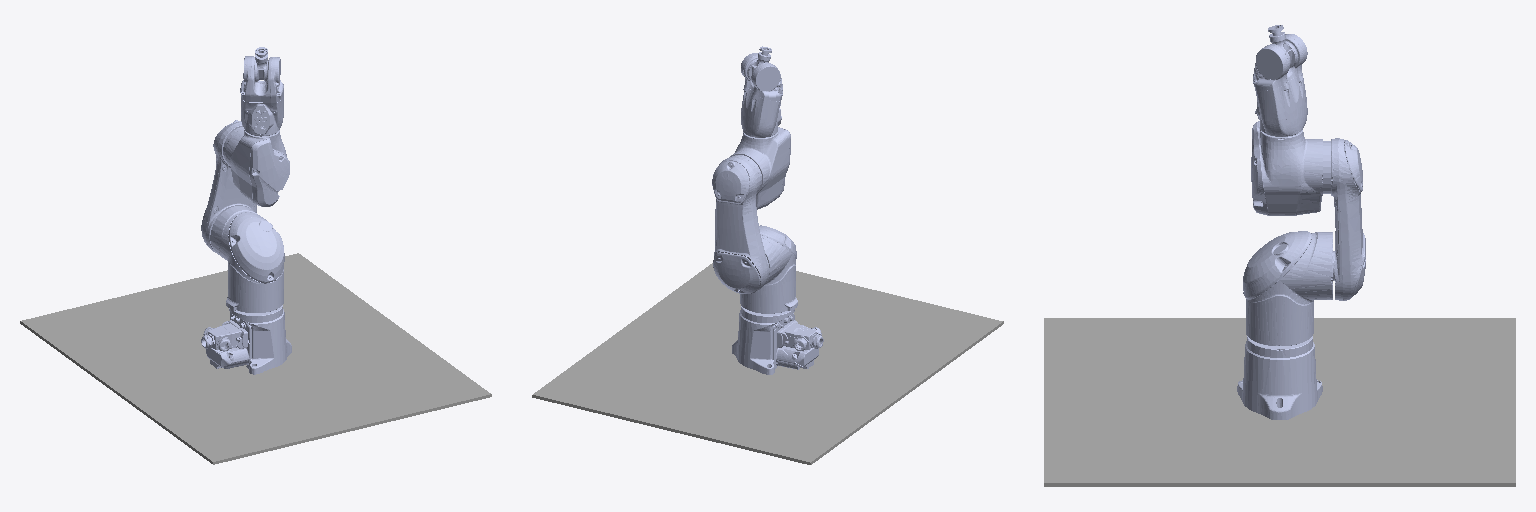
The robot description file, URDF, robot "staubli":
<?xml version="1.0" encoding="utf-8"?>
<!-- This URDF was automatically created by SolidWorks to URDF Exporter! Originally created by [author] ([email redacted]) 
     Commit Version: 1.5.1-0-g916b5db  Build Version: 1.5.7152.31018
     For more information, please see http://wiki.ros.org/sw_urdf_exporter -->
<robot
  name="staubli">

  <!--  %%%%%%%%%%%%%%%%%%%%%%%%%%%%%%%%%%%%%%%%%%%%%%%%%%%%%%%%%%%%%%%%%%%%%%%%%%%%%%%%%%%%%%%%%%%%%%  -->
  <!--  For display  -->

  <link name="world" />
  <joint name="world_joint" type="fixed">
      <parent link="world" />
      <child link="table" />
      <origin xyz="0.0 0.0 0.0" rpy="0.0 0.0 0.0" />
  </joint>

   <link name="table" >
     <mass
        value="7.5748" />
      <inertia
        ixx="0.029538"
        ixy="-8.9594E-05"
        ixz="0.00038731"
        iyy="0.027722"
        iyz="9.1547E-06"
        izz="0.022274" />
      <visual>
        <geometry>
          <box size="1.0 1.2 0.01" />
        </geometry>
        <material name="LightGrey">
          <color rgba="0.7 0.7 0.7 1.0"/>
        </material>
      </visual>
      <collision>
        <origin xyz="0.0 0.0 0.005" rpy="0 0 0" />
        <geometry>
          <box size="1.0 1.2 0.01" />
        </geometry>
      </collision>
  </link>

  <joint name="base_to_table" type="fixed">
      <origin xyz="0 0 0.001" rpy="-1.57 0.0 0.0"/>
      <parent link="table" />
      <child link = "base" />
  </joint>

  <link
    name="base">
    <inertial>
      <origin
        xyz="-0.036093 -0.0011918 0.08178"
        rpy="0 0 0" />
      <mass
        value="7.5748" />
      <inertia
        ixx="0.029538"
        ixy="-8.9594E-05"
        ixz="0.00038731"
        iyy="0.027722"
        iyz="9.1547E-06"
        izz="0.022274" />
    </inertial>
    <visual>
      <origin
        xyz="0 0 0"
        rpy="0 0 0" />
      <geometry>
        <mesh
          filename="package://staubli/meshes/base.STL" />
      </geometry>
      <material
        name="">
        <color
          rgba="0.79216 0.81961 0.93333 1" />
      </material>
    </visual>
    <collision>
      <origin
        xyz="0 0 0"
        rpy="0 0 0" />
      <geometry>
        <mesh
          filename="package://staubli/meshes/base.STL" />
      </geometry>
    </collision>
  </link>
  <link
    name="shoulder">
    <inertial>
      <origin
        xyz="-0.00023698 -0.13392 0.023184"
        rpy="0 0 0" />
      <mass
        value="7.2296" />
      <inertia
        ixx="0.059563"
        ixy="0.00017994"
        ixz="-4.0104E-05"
        iyy="0.037079"
        iyz="0.010038"
        izz="0.050678" />
    </inertial>
    <visual>
      <origin
        xyz="0 0 0"
        rpy="0 0 0" />
      <geometry>
        <mesh
          filename="package://staubli/meshes/shoulder.STL" />
      </geometry>
      <material
        name="">
        <color
          rgba="0.79216 0.81961 0.93333 1" />
      </material>
    </visual>
    <collision>
      <origin
        xyz="0 0 0"
        rpy="0 0 0" />
      <geometry>
        <mesh
          filename="package://staubli/meshes/shoulder.STL" />
      </geometry>
    </collision>
  </link>
  <joint
    name="base_shoulder_joint"
    type="revolute">
    <origin
      xyz="0 -0.19562 0"
      rpy="0 0 0" />
    <parent
      link="base" />
    <child
      link="shoulder" />
    <axis
      xyz="0 1 0" />
    <limit
      lower="-2.9671" upper="2.9671"
      effort="20"
      velocity="2" />
    <!--dynamics
      damping="0.7"
      friction="100" /-->
  </joint>
  <link
    name="arm">
    <inertial>
      <origin
        xyz="0.001767 -0.12741 0.041731"
        rpy="0 0 0" />
      <mass
        value="4.1314" />
      <inertia
        ixx="0.063289"
        ixy="0.00024419"
        ixz="2.1544E-05"
        iyy="0.0084984"
        iyz="-0.0015531"
        izz="0.068274" />
    </inertial>
    <visual>
      <origin
        xyz="0 0 0"
        rpy="0 0 0" />
      <geometry>
        <mesh
          filename="package://staubli/meshes/arm.STL" />
      </geometry>
      <material
        name="">
        <color
          rgba="0.79216 0.81961 0.93333 1" />
      </material>
    </visual>
    <collision>
      <origin
        xyz="0 0 0"
        rpy="0 0 0" />
      <geometry>
        <mesh
          filename="package://staubli/meshes/arm.STL" />
      </geometry>
    </collision>
  </link>
  <joint
    name="shoulder_arm_joint"
    type="revolute">
    <origin
      xyz="0 -0.18638 0.13"
      rpy="0 0 0.083621" />
    <parent
      link="shoulder" />
    <child
      link="arm" />
    <axis
      xyz="0 0 1" />
    <limit
      lower="-2.9671" upper="2.9671"
      effort="20"
      velocity="2" />
    <!--dynamics
      damping="0.7"
      friction="100" /-->
  </joint>
  <link
    name="elbow">
    <inertial>
      <origin
        xyz="-0.0038856 0.0079479 -0.10609"
        rpy="0 0 0" />
      <mass
        value="4.7834" />
      <inertia
        ixx="0.029621"
        ixy="0.00014964"
        ixz="-0.00068515"
        iyy="0.01953"
        iyz="-0.00061223"
        izz="0.022392" />
    </inertial>
    <visual>
      <origin
        xyz="0 0 0"
        rpy="0 0 0" />
      <geometry>
        <mesh
          filename="package://staubli/meshes/elbow.STL" />
      </geometry>
      <material
        name="">
        <color
          rgba="0.79216 0.81961 0.93333 1" />
      </material>
    </visual>
    <collision>
      <origin
        xyz="0 0 0"
        rpy="0 0 0" />
      <geometry>
        <mesh
          filename="package://staubli/meshes/elbow.STL" />
      </geometry>
    </collision>
  </link>
  <joint
    name="arm_elbow_joint"
    type="revolute">
    <origin
      xyz="0 -0.29 0"
      rpy="0 0 -0.083621" />
    <parent
      link="arm" />
    <child
      link="elbow" />
    <axis
      xyz="0 0 1" />
    <limit
      lower="-2.9671" upper="2.9671"
      effort="20"
      velocity="2" />
    <!--dynamics
      damping="0.7"
      friction="100" /-->
  </joint>
  <link
    name="forearm">
    <inertial>
      <origin
        xyz="-0.0028825 7.4416E-07 0.10602"
        rpy="0 0 0" />
      <mass
        value="2.2867" />
      <inertia
        ixx="0.0056823"
        ixy="3.2614E-08"
        ixz="-0.00022641"
        iyy="0.004438"
        iyz="-6.8535E-07"
        izz="0.0043222" />
    </inertial>
    <visual>
      <origin
        xyz="0 0 0"
        rpy="0 0 0" />
      <geometry>
        <mesh
          filename="package://staubli/meshes/forearm.STL" />
      </geometry>
      <material
        name="">
        <color
          rgba="0.79216 0.81961 0.93333 1" />
      </material>
    </visual>
    <collision>
      <origin
        xyz="0 0 0"
        rpy="0 0 0" />
      <geometry>
        <mesh
          filename="package://staubli/meshes/forearm.STL" />
      </geometry>
    </collision>
  </link>
  <joint
    name="elbow_forarm_joint"
    type="revolute">
    <origin
      xyz="0 -0.10845 -0.1253"
      rpy="1.5708 -0.9718 0" />
    <parent
      link="elbow" />
    <child
      link="forearm" />
    <axis
      xyz="0 0 1" />
    <limit
      lower="-2.9671" upper="2.9671"
      effort="20"
      velocity="2" />
    <!--dynamics
      damping="0.7"
      friction="100" /-->
  </joint>
  <link
    name="wrist">
    <inertial>
      <origin
        xyz="0.00019039 -0.01525 -0.00049904"
        rpy="0 0 0" />
      <mass
        value="0.11471" />
      <inertia
        ixx="8.4067E-05"
        ixy="-3.5655E-07"
        ixz="-4.7628E-11"
        iyy="2.9425E-05"
        iyz="4.1043E-09"
        izz="9.5321E-05" />
    </inertial>
    <visual>
      <origin
        xyz="0 0 0"
        rpy="0 0 0" />
      <geometry>
        <mesh
          filename="package://staubli/meshes/wrist.STL" />
      </geometry>
      <material
        name="">
        <color
          rgba="0.79216 0.81961 0.93333 1" />
      </material>
    </visual>
    <collision>
      <origin
        xyz="0 0 0"
        rpy="0 0 0" />
      <geometry>
        <mesh
          filename="package://staubli/meshes/wrist.STL" />
      </geometry>
    </collision>
  </link>
  <joint
    name="forarm_wrist_joint"
    type="revolute">
    <origin
      xyz="0 0 0.20175"
      rpy="-1.5708 0.23604 3.1416" />
    <parent
      link="forearm" />
    <child
      link="wrist" />
    <axis
      xyz="0 0 1" />
    <limit
      lower="-2.9671" upper="2.9671"
      effort="20"
      velocity="2" />
    <!--dynamics
      damping="0.7"
      friction="100" /-->
  </joint>
  <link
    name="flange">
    <inertial>
      <origin
        xyz="-0.00019716 2.5532E-09 0.010257"
        rpy="0 0 0" />
      <mass
        value="0.0088462" />
      <inertia
        ixx="1.0446E-06"
        ixy="1.8452E-11"
        ixz="6.6235E-09"
        iyy="1.0168E-06"
        iyz="1.3124E-15"
        izz="1.5808E-06" />
    </inertial>
    <visual>
      <origin
        xyz="0 0 0"
        rpy="0 0 0" />
      <geometry>
        <mesh
          filename="package://staubli/meshes/flange.STL" />
      </geometry>
      <material
        name="">
        <color
          rgba="0.79216 0.81961 0.93333 1" />
      </material>
    </visual>
    <collision>
      <origin
        xyz="0 0 0"
        rpy="0 0 0" />
      <geometry>
        <mesh
          filename="package://staubli/meshes/flange.STL" />
      </geometry>
    </collision>
  </link>
  <joint
    name="wrist_flange_joint"
    type="revolute">
    <origin
      xyz="0 -0.062155 -0.0005"
      rpy="-1.5708 -0.9718 3.1416" />
    <parent
      link="wrist" />
    <child
      link="flange" />
    <axis
      xyz="0 0 1" />
    <limit
      lower="-2.9671" upper="2.9671"
      effort="20"
      velocity="2" />
    <!--dynamics
      damping="0.7"
      friction="100" /-->
  </joint>
</robot>

--- Facts derived from the render (not from the file) ---
3 views of the same robot in one strip: view 1: azimuth 30°, elevation 25°; view 2: azimuth 150°, elevation 25°; view 3: azimuth 270°, elevation 25° (orthographic).
Model staubli with 9 links and 8 joints (6 revolute, 2 fixed), rooted at world, posed all joints at 0.
Links seen in each view (by area): view 1: table, shoulder, base, elbow, forearm, arm; view 2: table, arm, base, shoulder, forearm, elbow; view 3: table, shoulder, elbow, base, arm, forearm.
Boxes of the visible links, x1=… form: table: x1=20, y1=253, x2=491, y2=464; shoulder: x1=210, y1=206, x2=284, y2=312; base: x1=201, y1=305, x2=291, y2=374; elbow: x1=223, y1=127, x2=289, y2=206; forearm: x1=240, y1=56, x2=283, y2=136; arm: x1=201, y1=120, x2=256, y2=252; table: x1=532, y1=263, x2=1003, y2=464; arm: x1=712, y1=156, x2=769, y2=293; base: x1=732, y1=306, x2=823, y2=374; shoulder: x1=740, y1=225, x2=797, y2=313; forearm: x1=741, y1=53, x2=782, y2=137; elbow: x1=730, y1=127, x2=790, y2=209; table: x1=1044, y1=318, x2=1515, y2=486; shoulder: x1=1243, y1=231, x2=1332, y2=345; elbow: x1=1251, y1=121, x2=1330, y2=215; base: x1=1237, y1=336, x2=1322, y2=419; arm: x1=1331, y1=138, x2=1365, y2=300; forearm: x1=1253, y1=34, x2=1307, y2=136.
Bounding box of the posed robot: 1 × 1.2 × 1.07 m (x, y, z).
7 mesh visuals loaded from 7 distinct referenced files (7 binary STL).